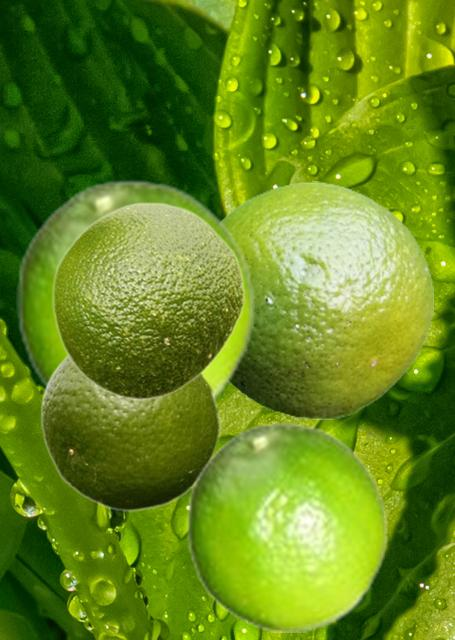calamansi: (16, 178, 255, 402), (220, 181, 432, 418), (186, 421, 388, 631), (51, 201, 244, 400), (40, 354, 220, 511)
